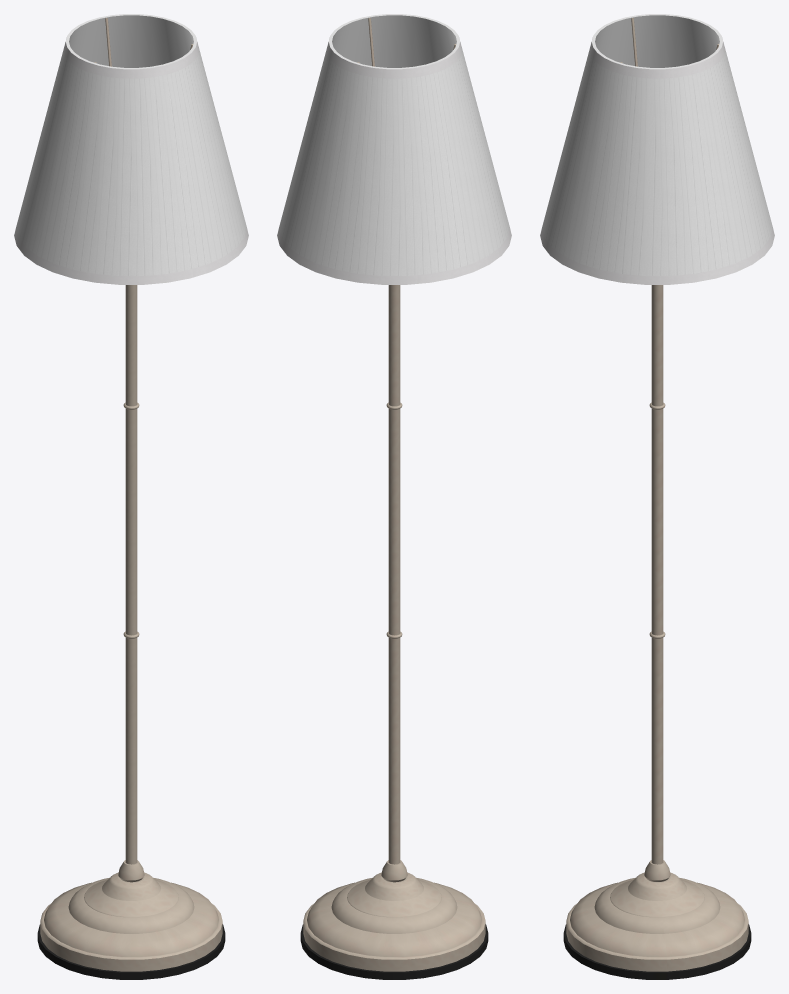
File: decor2.glb
3 views of the same model, side by side, from view 1: azimuth 30°, elevation 25°; view 2: azimuth 150°, elevation 25°; view 3: azimuth 270°, elevation 25° (orthographic).
Parts seen in each view (by area): view 1: polySurface4; view 2: polySurface4; view 3: polySurface4.
Part boxes in pixels (left/top/right/bottom): polySurface4: left=14, top=14, right=248, bottom=979; polySurface4: left=277, top=14, right=511, bottom=979; polySurface4: left=540, top=14, right=774, bottom=979.
Size of the model in its own units: 35.53 by 151 by 35.72.
Materials: 1 (1 with a texture image).
